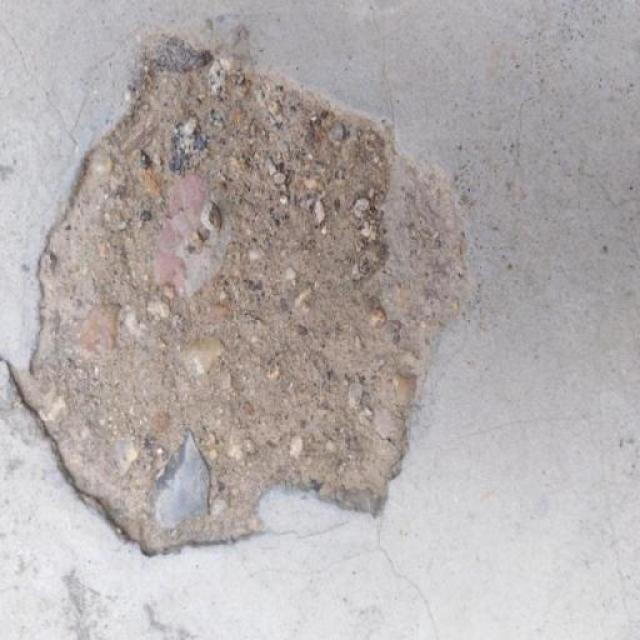D10: (11, 34, 470, 558)
